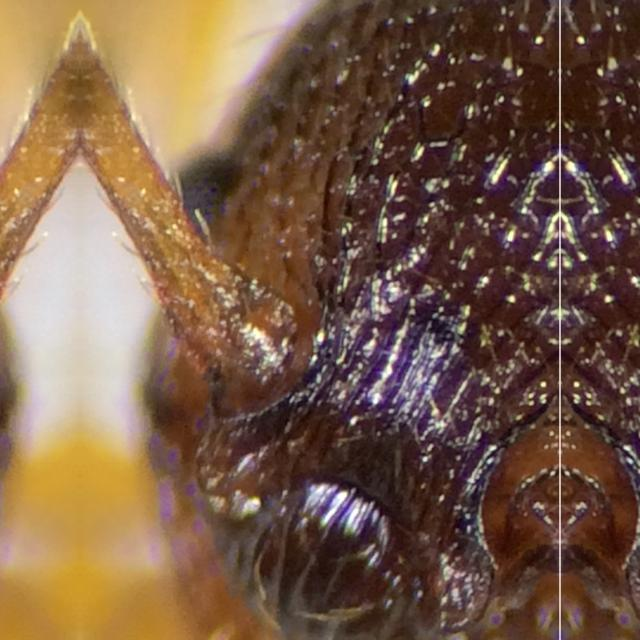Myrmica: (99, 0, 559, 556)
